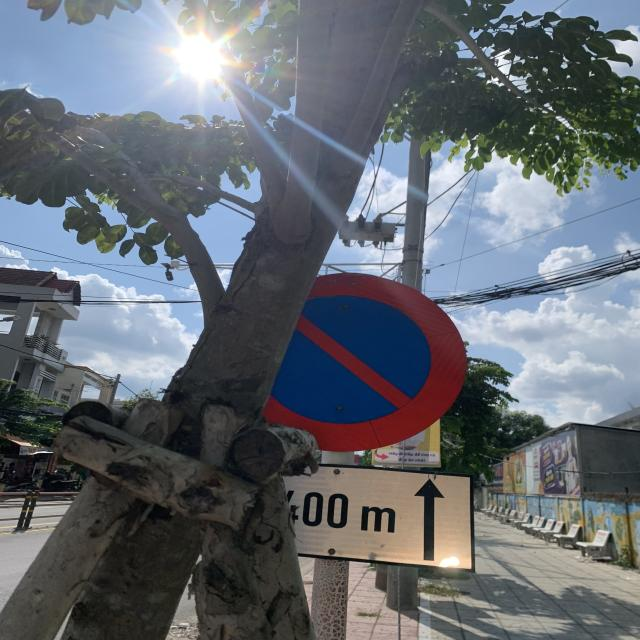Cam_Dau_Xe: (257, 272, 467, 453)
